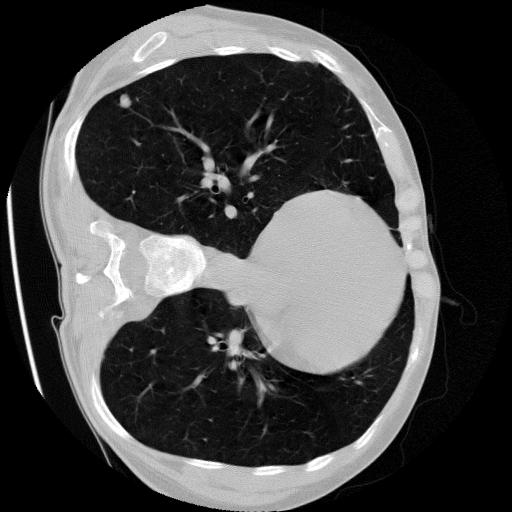nodule: (116, 91, 136, 111)
